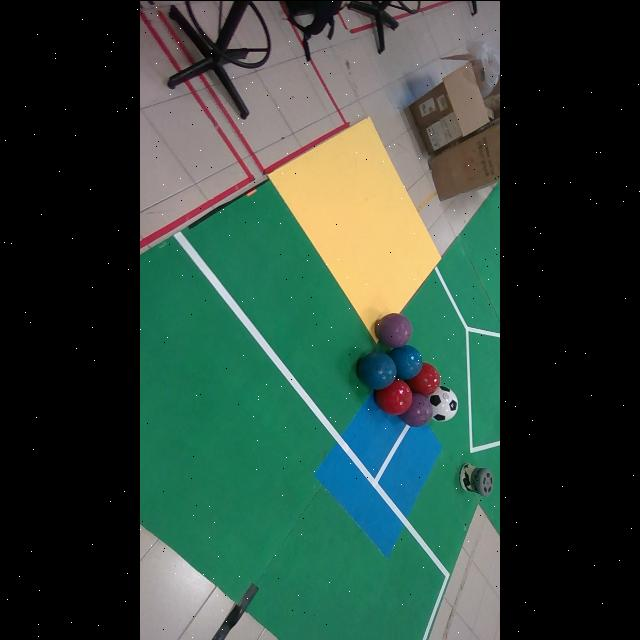B: (357, 352, 397, 388), (389, 345, 422, 378)
P: (375, 312, 412, 347), (399, 392, 433, 426)
R: (375, 378, 412, 414), (406, 361, 440, 395)
